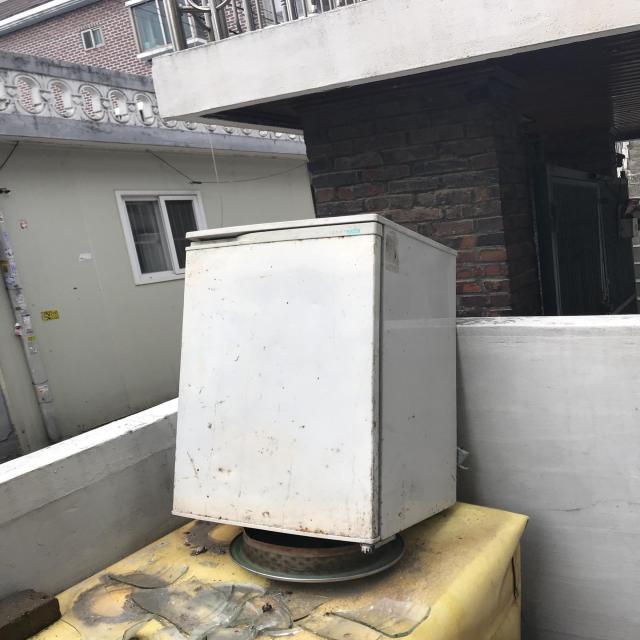refrigerator: (169, 213, 463, 553)
